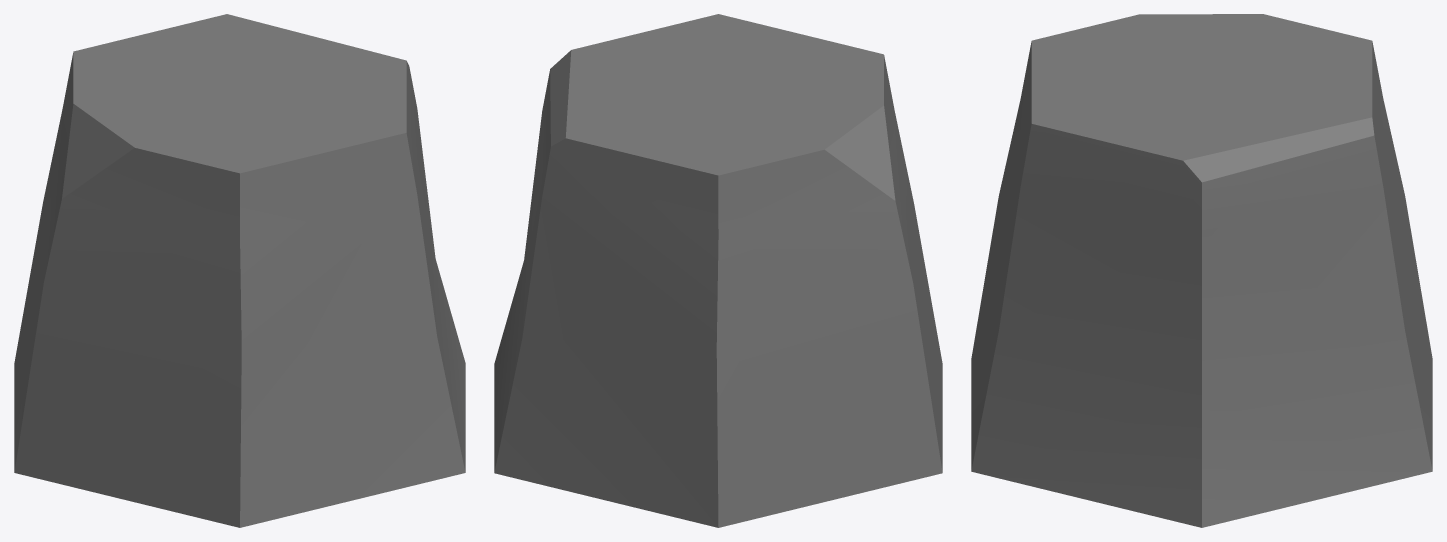
Rendered from rock5.fbx.
3 renders of one model, left to right at view 1: azimuth 30°, elevation 25°; view 2: azimuth 150°, elevation 25°; view 3: azimuth 270°, elevation 25°, orthographic. The views are drawn at different scales.
Parts seen in each view (by area): view 1: rock2; view 2: rock2; view 3: rock2.
Boxes of the visible parts, left/top/right/bottom form: rock2: left=14, top=14, right=465, bottom=527; rock2: left=494, top=14, right=942, bottom=527; rock2: left=971, top=14, right=1432, bottom=527.
Size of the model in its own units: 663 by 458 by 574.
